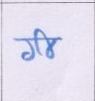i_matra: (36, 28, 56, 57)
